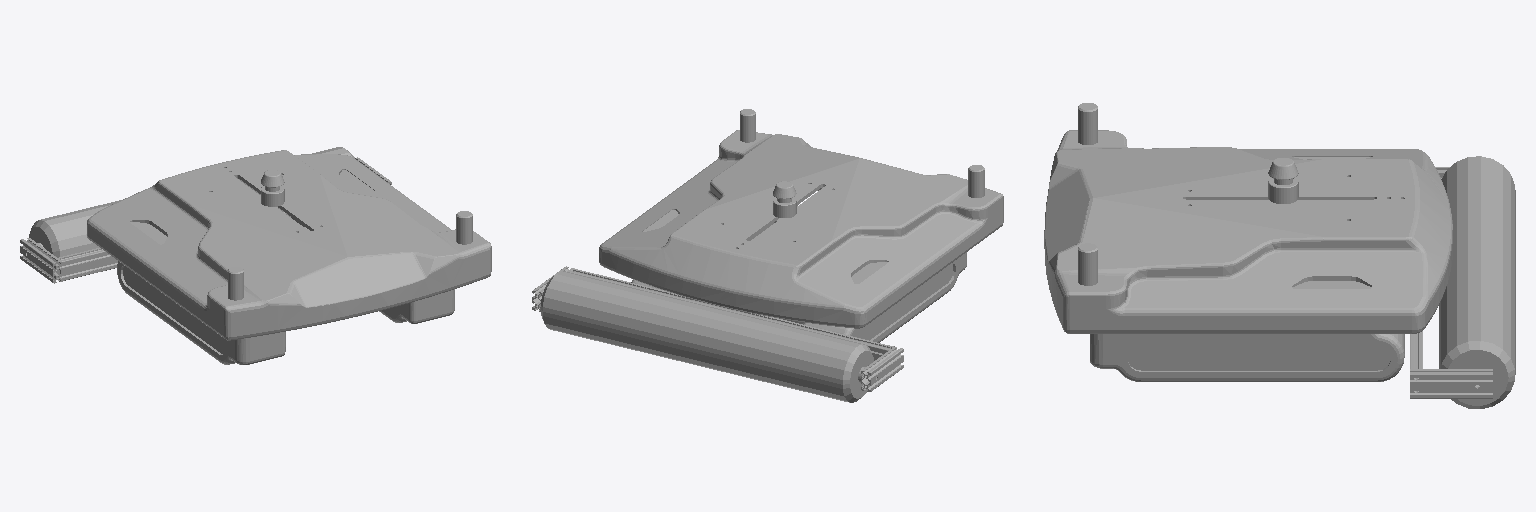
The robot description file, URDF, robot "xiaolan":
<?xml version="1.0" encoding="utf-8"?>
<robot name="xiaolan">
  <!--
    Cleaned from the SolidWorks export in /home/hxy/下载/new_xiaolan.

    The export contained two coincident fixed links with identical meshes,
    mass properties, and collision geometry. Xiaolan is one rigid docking
    target here, so only one copy is retained to avoid doubled mass and
    overlapping collision shapes.
  -->
  <material name="xiaolan_gray">
    <color rgba="0.705882 0.705882 0.705882 1"/>
  </material>

  <link name="xiaolan_base_link">
    <inertial>
      <!-- CAD mass properties, expressed in the exported Xiaolan frame. -->
      <origin
        xyz="0.0000000255 0.1029782145 0.0817612815"
        rpy="0 0 0"/>
      <mass value="11.467482077"/>
      <inertia
        ixx="0.1233826931"
        ixy="-0.0000001171"
        ixz="-0.0000000073"
        iyy="0.3025366126"
        iyz="0.0003908843"
        izz="0.4062857437"/>
    </inertial>

    <visual>
      <origin xyz="0 0 0" rpy="0 0 0"/>
      <geometry>
        <mesh filename="../meshes/xiaolan/base_link_xiaolan.STL"/>
      </geometry>
      <material name="xiaolan_gray"/>
    </visual>

    <collision>
      <origin xyz="0 0 0" rpy="0 0 0"/>
      <geometry>
        <!--
          Keep the CAD surface for ROS and other mesh-capable consumers.
          PhysX convexifies URDF collision meshes, so run_control_isaacgym.py
          loads this STL separately with add_triangle_mesh() to preserve every
          triangle while Xiaolan remains static.
        -->
        <mesh filename="../meshes/xiaolan/base_link_xiaolan.STL"/>
      </geometry>
    </collision>
  </link>
</robot>

--- Render facts (derived) ---
The picture shows the robot from 3 angles, left to right: view 1: azimuth 30°, elevation 25°; view 2: azimuth 150°, elevation 25°; view 3: azimuth 270°, elevation 25°; orthographic projection.
Model xiaolan with 1 links and 0 joints (none), rooted at xiaolan_base_link, posed all joints at 0.
Links seen in each view (by area): view 1: xiaolan_base_link; view 2: xiaolan_base_link; view 3: xiaolan_base_link.
Link boxes in pixels (box(x1,y1,x2,y2)): xiaolan_base_link: box(20, 147, 491, 364); xiaolan_base_link: box(532, 109, 1003, 402); xiaolan_base_link: box(1044, 103, 1515, 408).
Size in the robot's own frame: 0.71 by 0.68 by 0.248 metres.
1 mesh visuals loaded from 1 distinct referenced files (1 binary STL).
